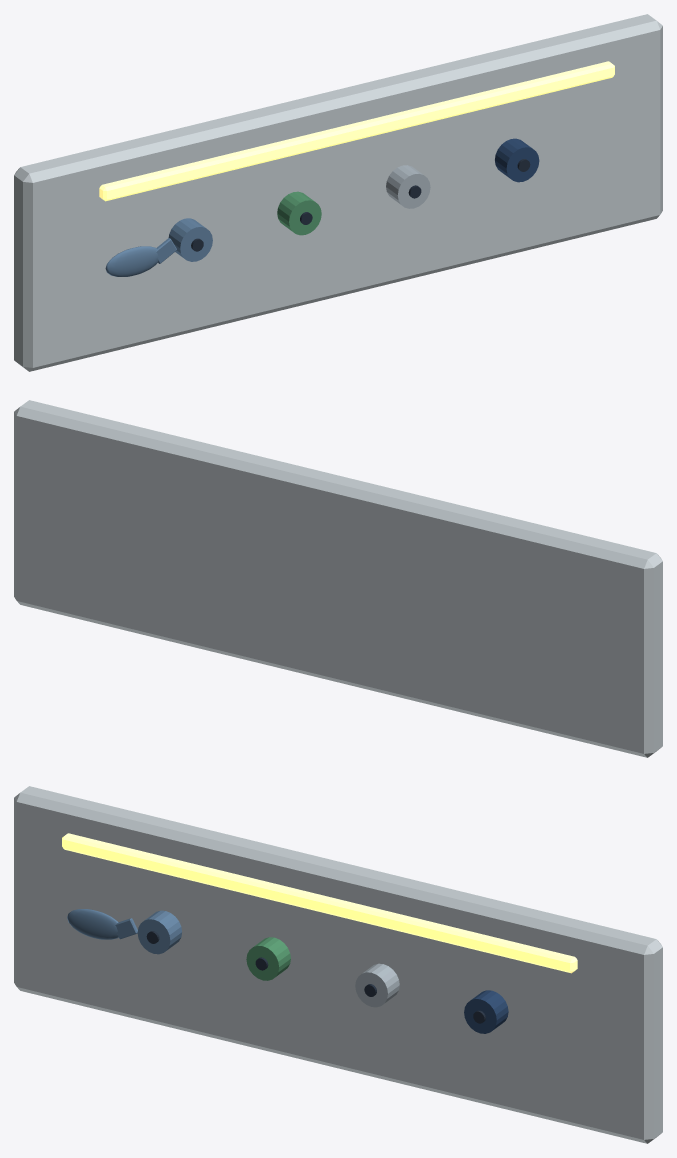
Rendered from ward_05.glb.
The picture shows the model from 3 angles, top to bottom: view 1: azimuth 30°, elevation 25°; view 2: azimuth 150°, elevation 25°; view 3: azimuth 330°, elevation 25°; orthographic projection.
Parts seen in each view (by area): view 1: WallUnit, ReadingLight, GasConnector (×4), WhaleBody; view 2: WallUnit; view 3: WallUnit, ReadingLight, GasConnector (×4), WhaleBody.
Boxes of the visible parts, x1,y1,x2,y2 form: WallUnit: (14,14,662,371); ReadingLight: (99,61,614,201); GasConnector (×4): (168,138,539,261); WhaleBody: (105,246,158,276); WallUnit: (14,400,662,757); WallUnit: (14,786,662,1143); ReadingLight: (62,833,577,973); GasConnector (×4): (137,910,508,1033); WhaleBody: (67,909,118,939).
Size of the model in its own units: 1.25 by 0.37 by 0.105.
